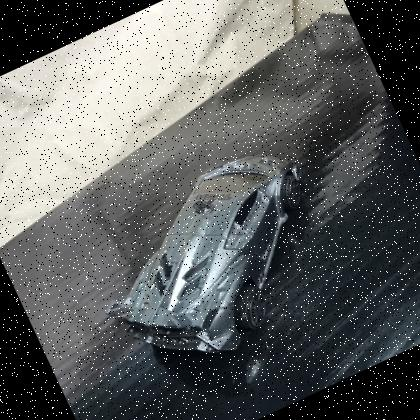Car: (58, 125, 364, 402)
